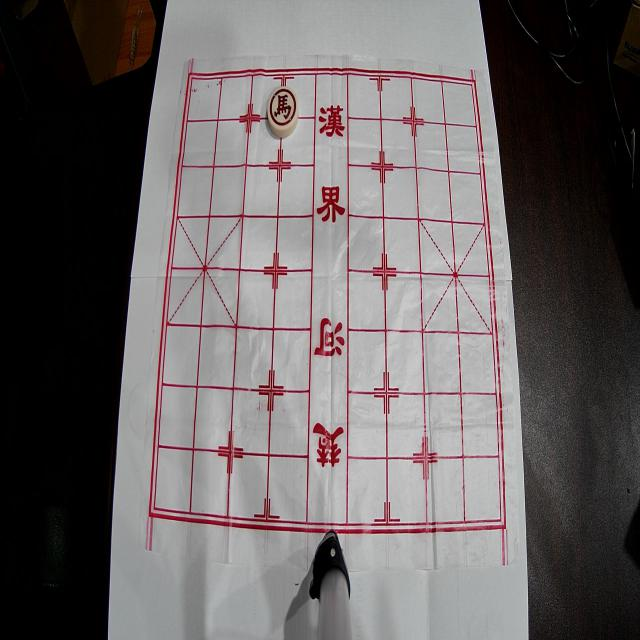red-horse: (268, 86, 298, 138)
